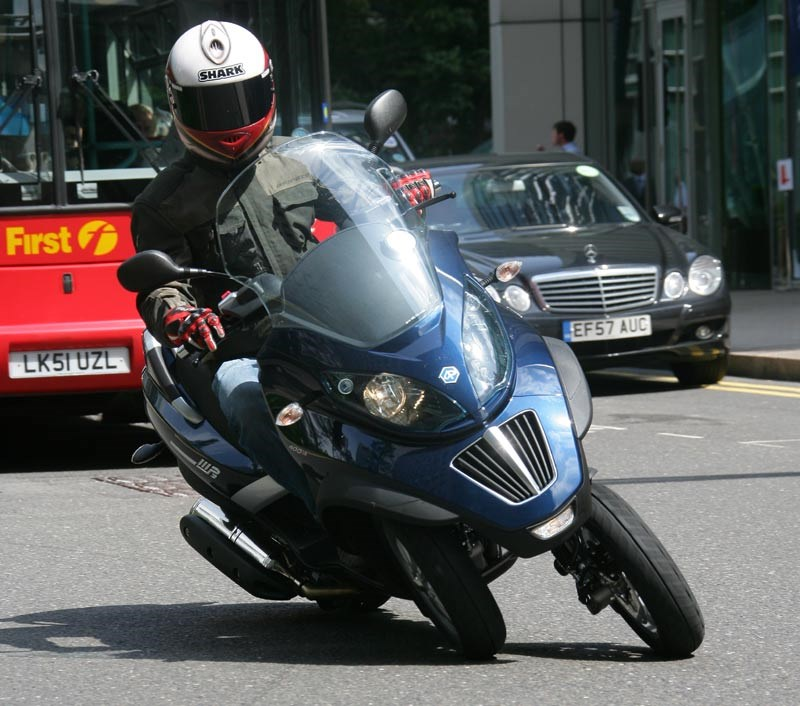helmet: (163, 25, 284, 157)
